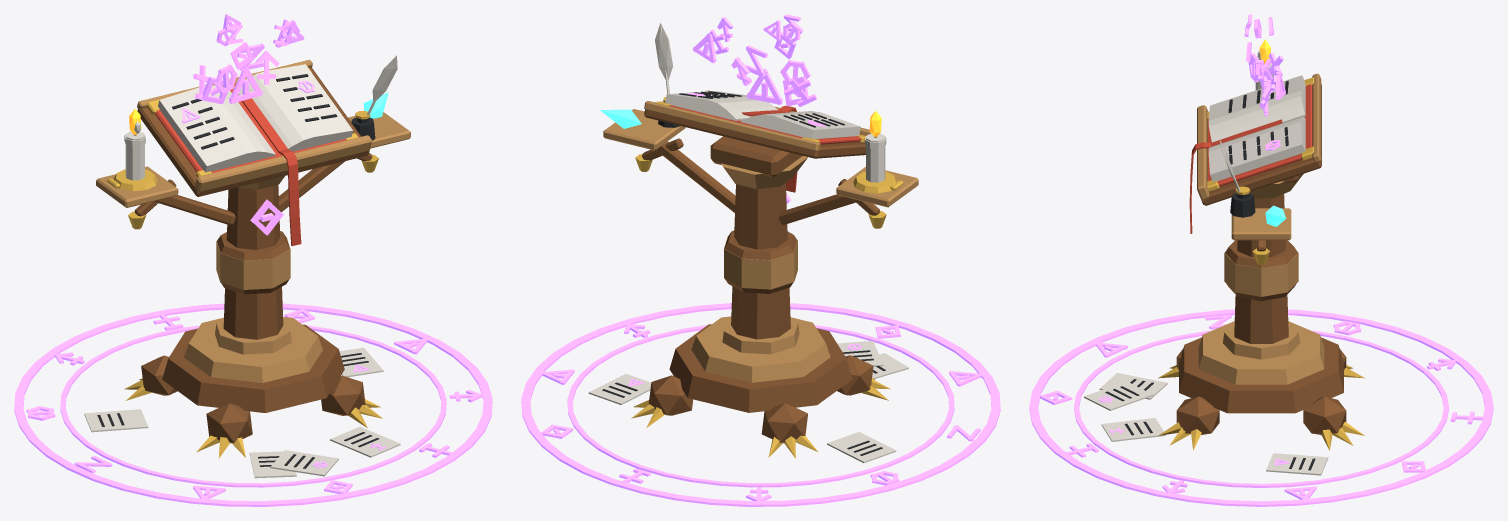
File: spellbook-lectern.glb
The picture shows the model from 3 angles, left to right: view 1: azimuth 30°, elevation 25°; view 2: azimuth 150°, elevation 25°; view 3: azimuth 270°, elevation 25°; orthographic projection. The views are drawn at different scales.
Visible parts, largest first — view 1: Lectern, FloorCircle, Spellbook, LoosePages, FloatingRunes, Candle, InkPot; view 2: Lectern, FloorCircle, Spellbook, FloatingRunes, LoosePages, Candle, InkPot; view 3: Lectern, FloorCircle, Spellbook, LoosePages, FloatingRunes, InkPot.
Boxes of the visible parts, <box> form: Lectern: <box>96,59,410,458</box>; FloorCircle: <box>14,303,492,506</box>; Spellbook: <box>147,64,358,246</box>; LoosePages: <box>84,347,400,478</box>; FloatingRunes: <box>193,14,304,104</box>; Candle: <box>107,131,157,191</box>; InkPot: <box>351,55,397,140</box>; Lectern: <box>603,90,918,458</box>; FloorCircle: <box>521,303,1000,506</box>; Spellbook: <box>655,91,865,192</box>; FloatingRunes: <box>693,14,816,106</box>; LoosePages: <box>588,341,908,462</box>; Candle: <box>853,133,903,193</box>; InkPot: <box>655,23,680,127</box>; Lectern: <box>1158,73,1364,450</box>; FloorCircle: <box>1029,309,1493,506</box>; Spellbook: <box>1189,75,1313,233</box>; LoosePages: <box>1084,373,1328,475</box>; FloatingRunes: <box>1244,14,1285,115</box>; InkPot: <box>1219,140,1255,217</box>.
Size of the model in its own units: 6.24 by 5.65 by 6.24.
